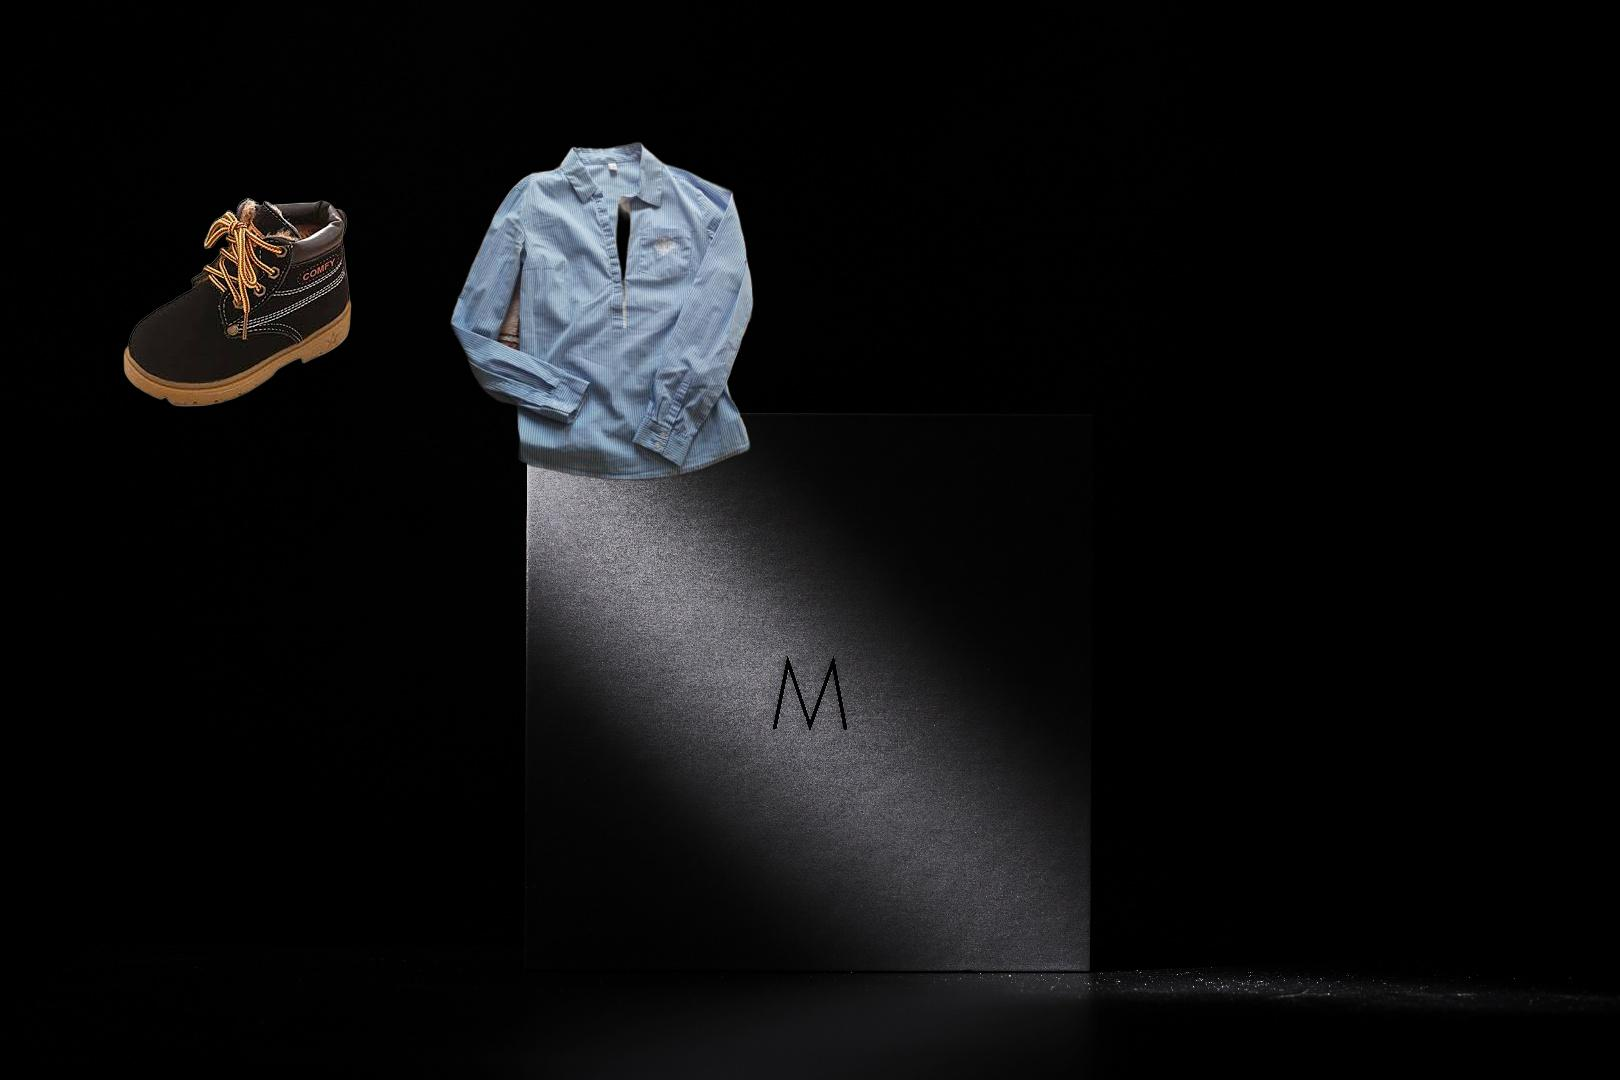clothes: (446, 137, 757, 485)
shoes: (121, 196, 354, 409)
